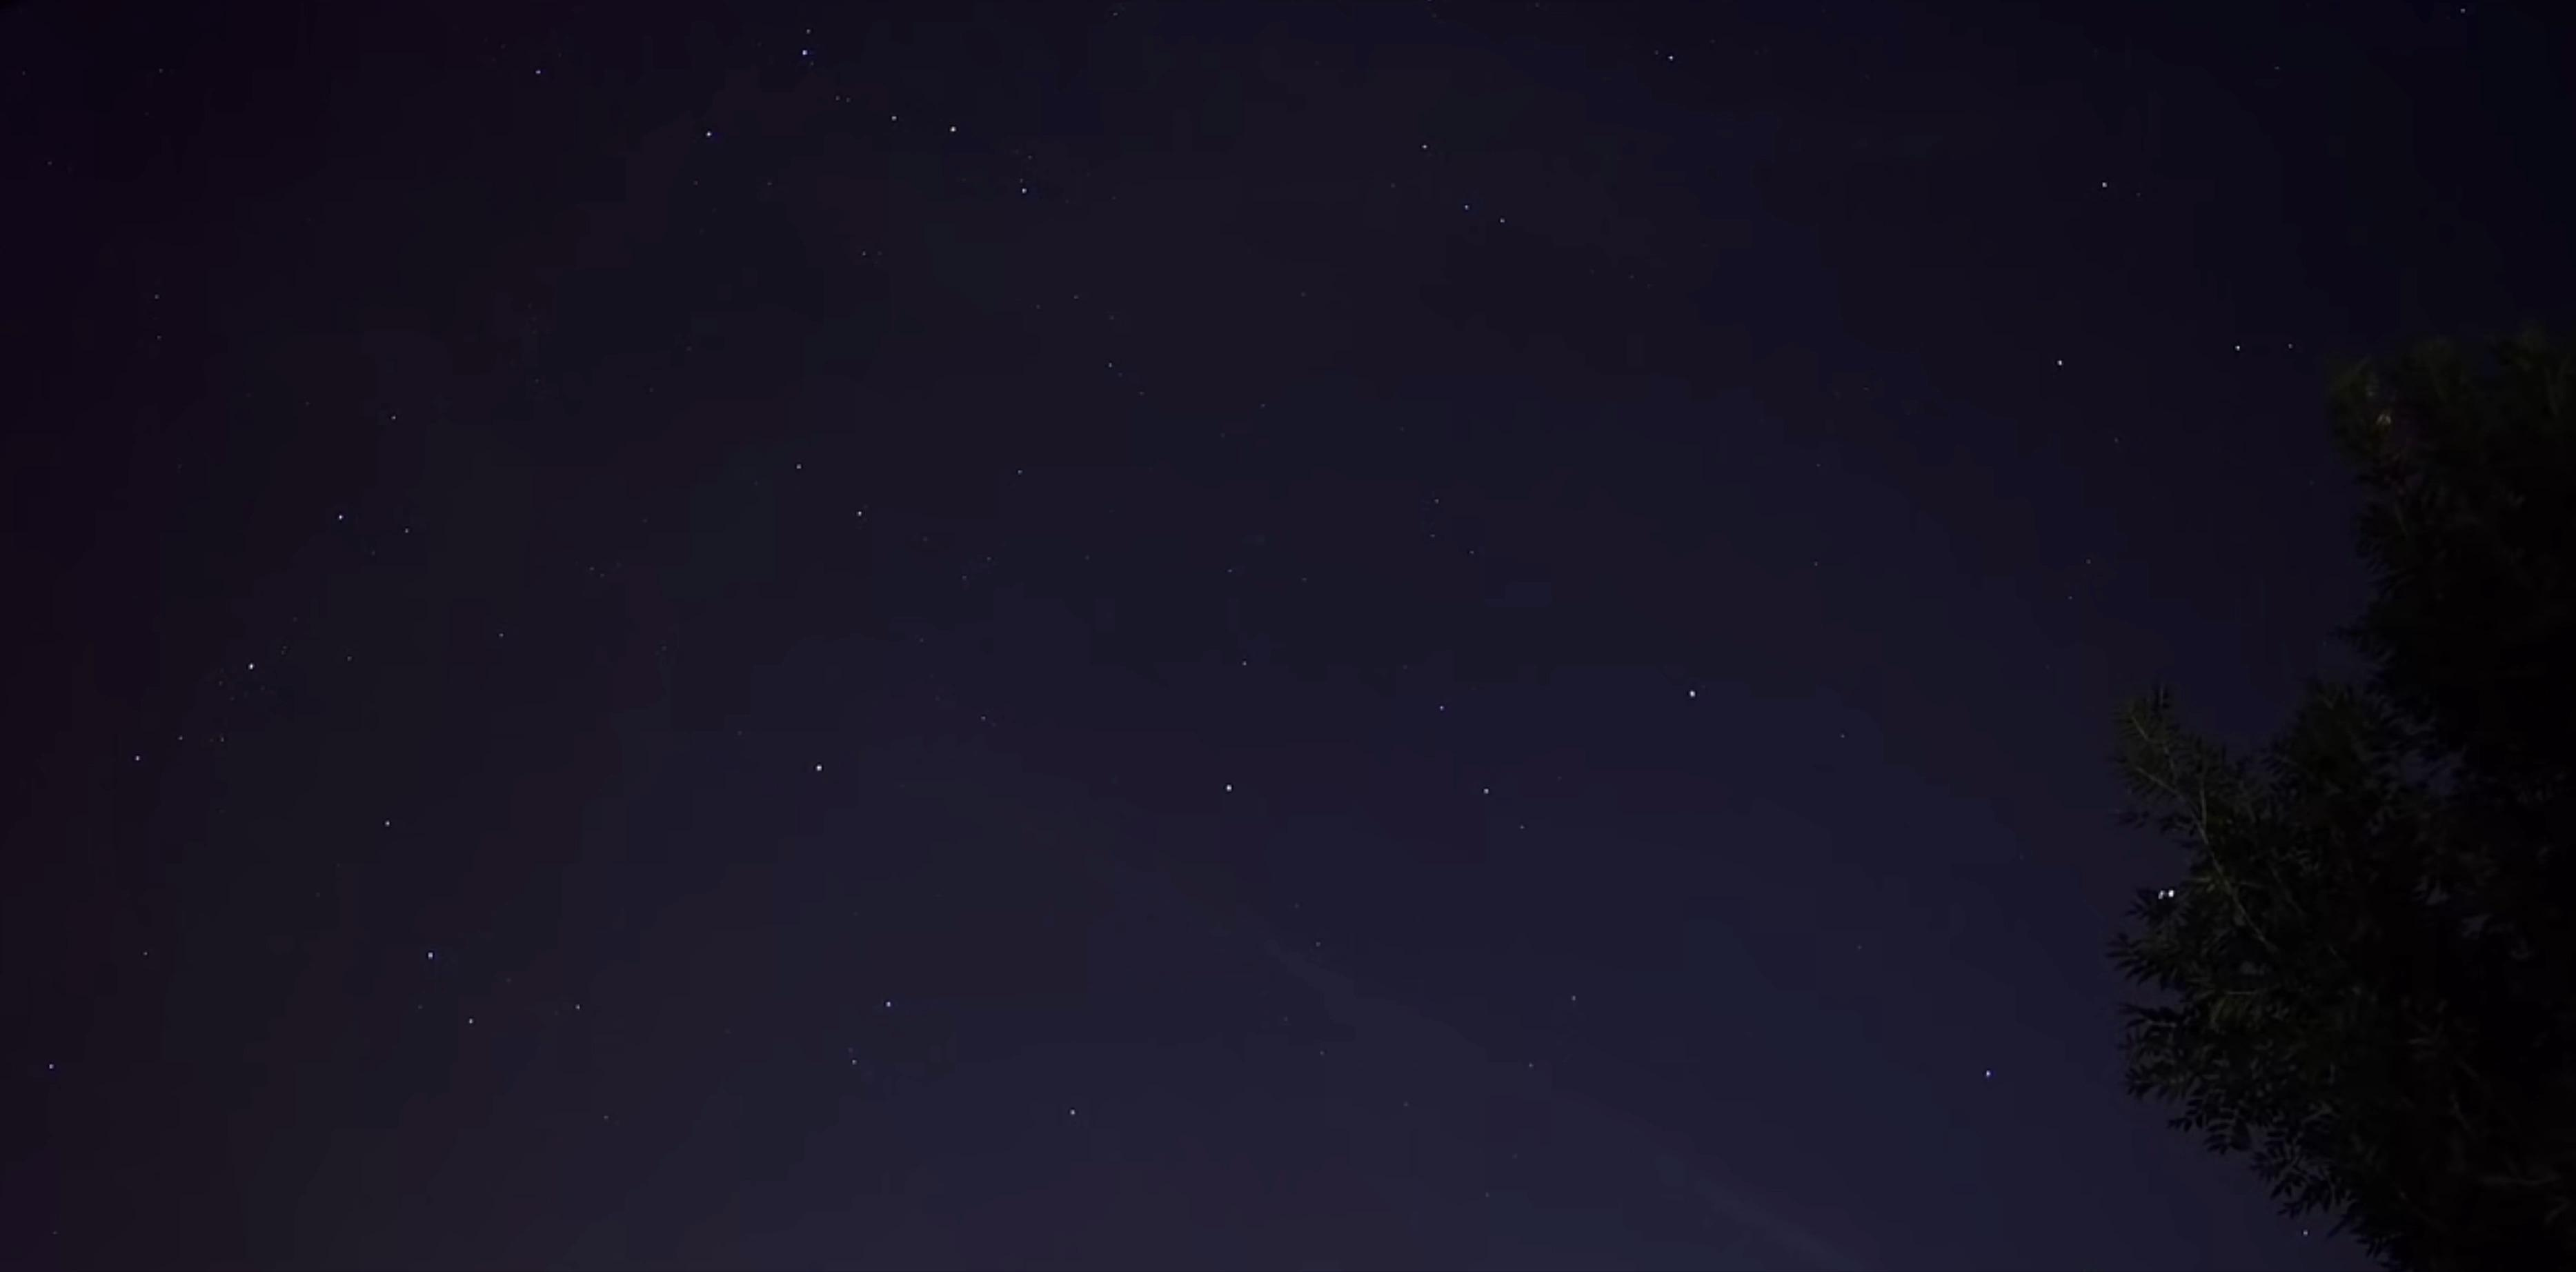Plane: (2146, 878, 2183, 927)
